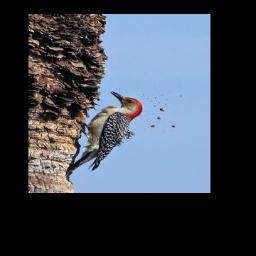Woodpecker: (65, 90, 144, 175)
